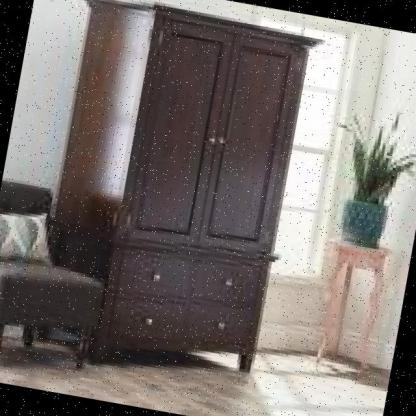Chair: (0, 174, 118, 378)
Closet: (16, 0, 328, 399)
Table: (302, 237, 394, 379)
